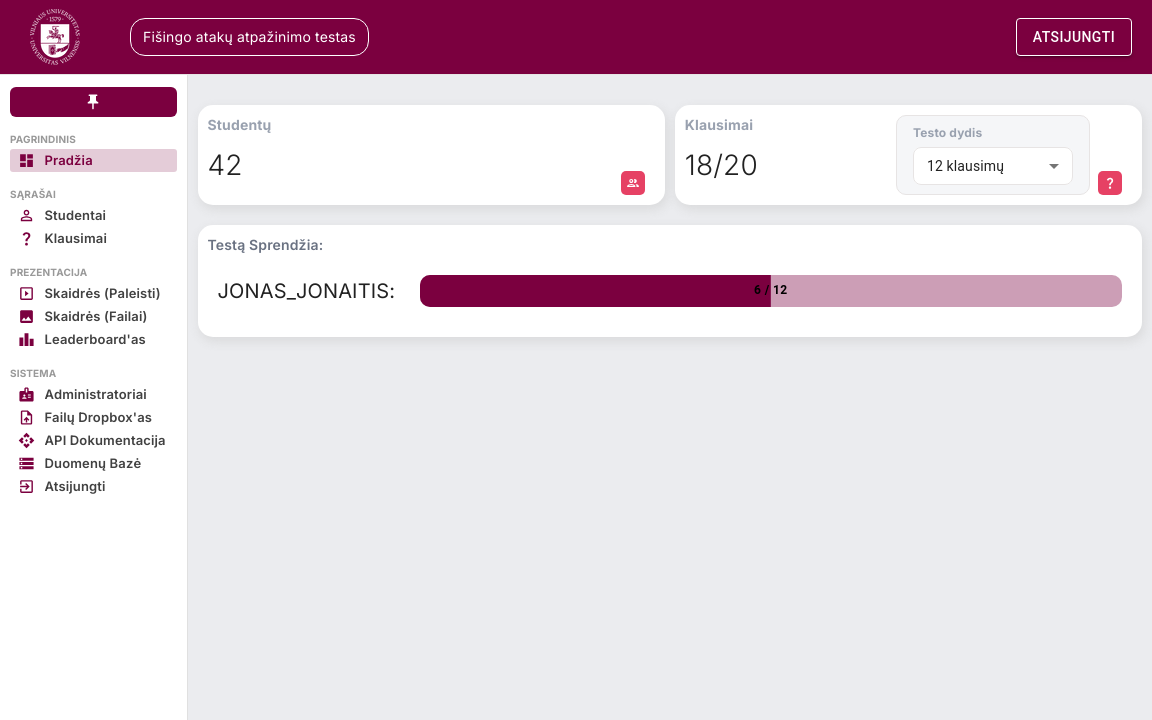
Test case: Home — the test-size picker › saves a pick at once — POST {phishingtestsize: "21"} with the session cookie — and says 'Išsaugota'
Expected: the text "Studentų" is shown, [208, 115, 271, 135]
Click the dropdown labelled "12 klausimų": click(966, 166) [927, 158, 1004, 174]
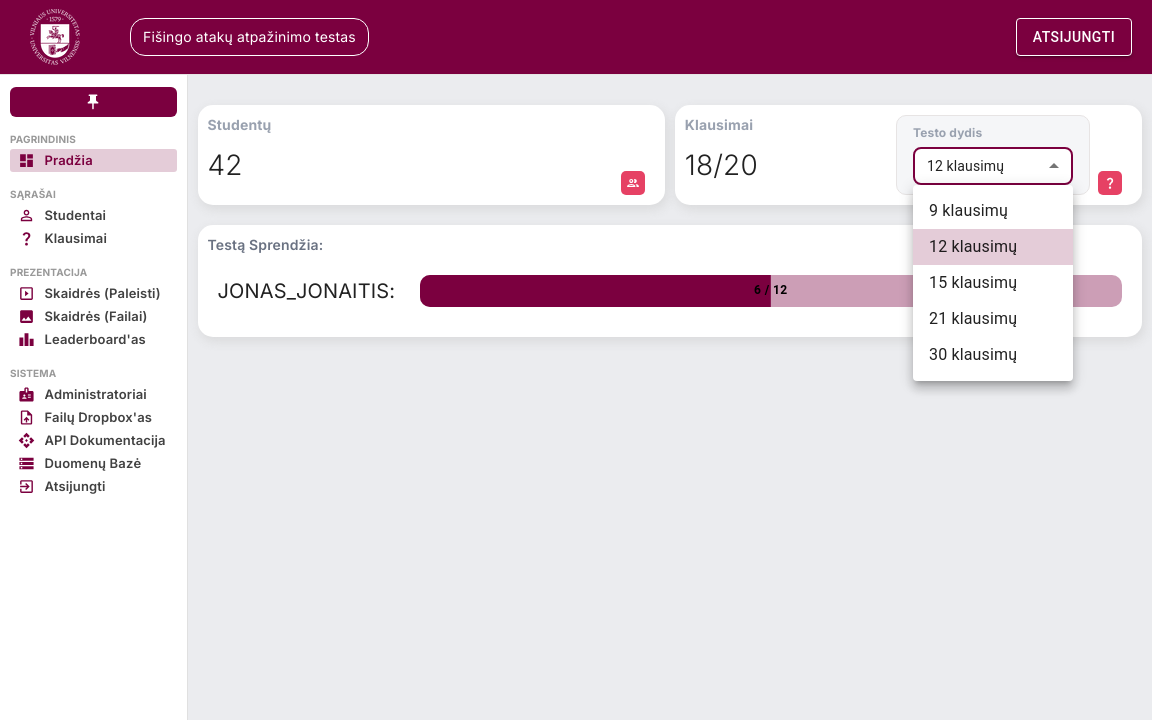
Click the option "21 klausimų": click(973, 318) [929, 309, 1017, 328]
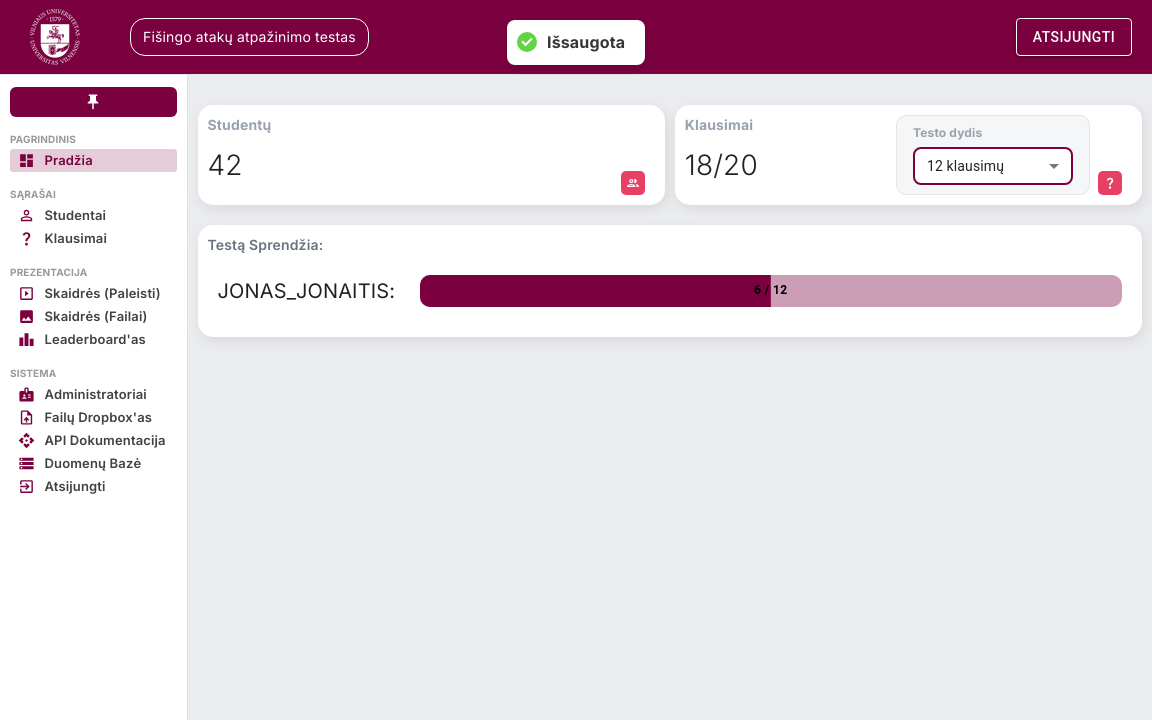
Result: the list "9 klausimų 12 klausimų 15 klausimų 21 klausimų 30 klausimų" is gone
